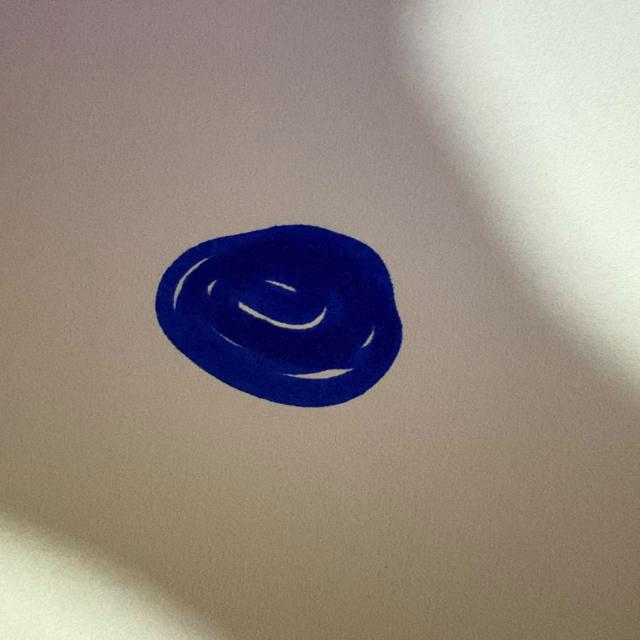Circle: (152, 219, 417, 412)
